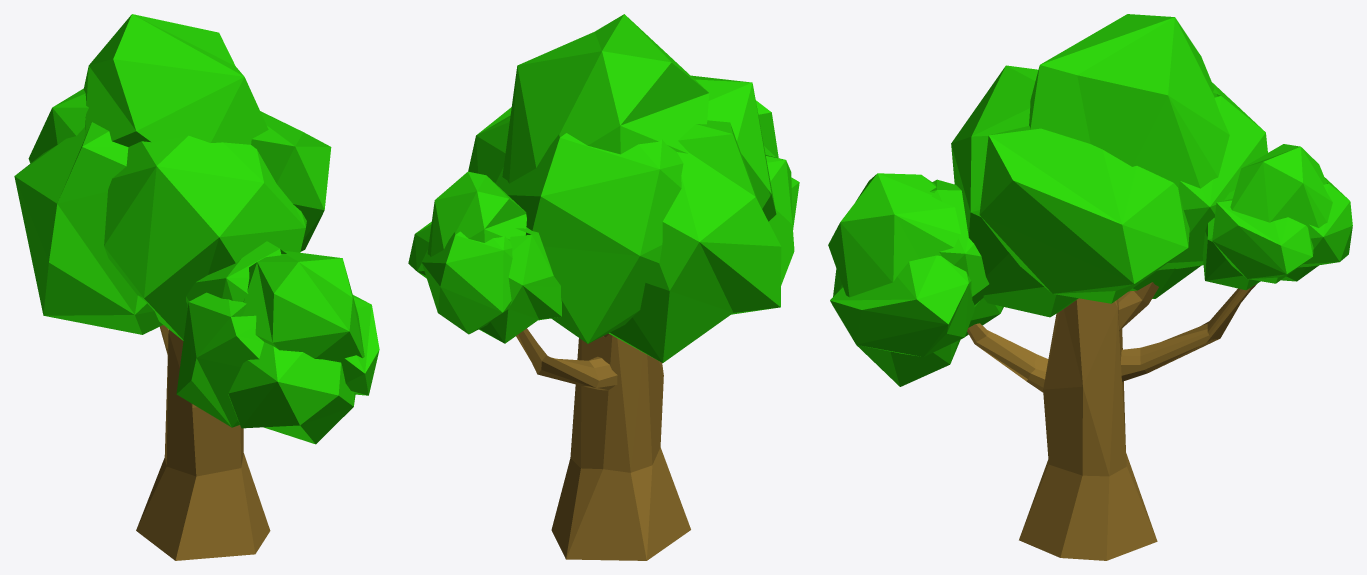
File: Tree#5.fbx
3 views of the same model, side by side, from view 1: azimuth 30°, elevation 25°; view 2: azimuth 150°, elevation 25°; view 3: azimuth 270°, elevation 25° (orthographic). The views are drawn at different scales.
Parts seen in each view (by area): view 1: Tree#5; view 2: Tree#5; view 3: Tree#5.
Part boxes in pixels (x1,y1,x2,y2): Tree#5: [14, 14, 379, 560]; Tree#5: [408, 14, 799, 560]; Tree#5: [828, 14, 1352, 560].
Bounding box in the file's own units: 651 × 1103 × 1041.
